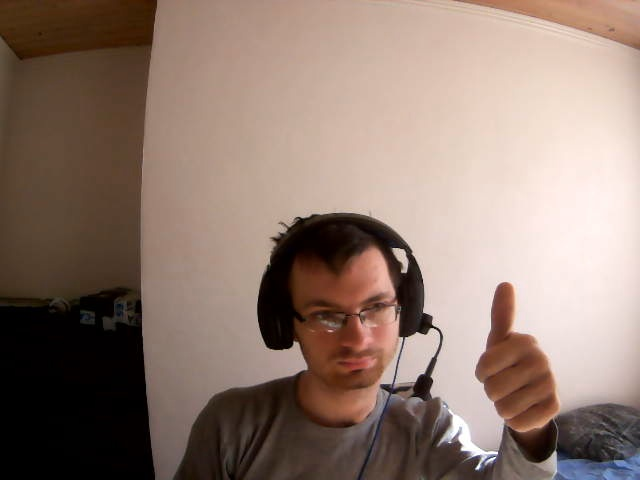nice: (468, 278, 570, 434)
